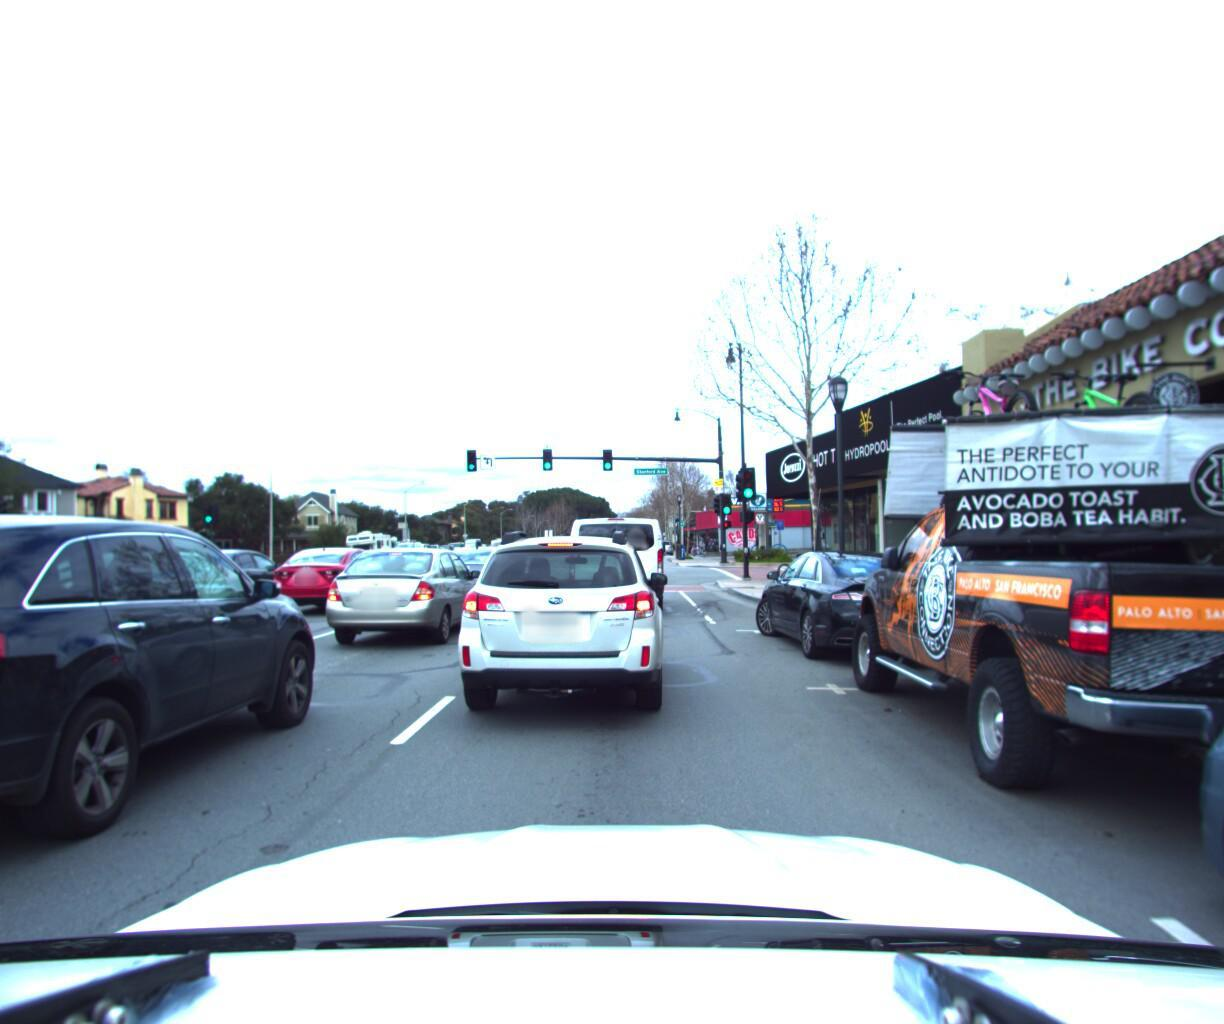car: (829, 210, 1224, 879), (0, 485, 336, 948), (435, 517, 676, 739), (747, 542, 974, 682), (314, 546, 497, 657), (567, 510, 671, 622), (148, 547, 312, 617), (260, 540, 399, 619), (404, 543, 528, 615), (658, 540, 679, 557)
other_vehicle: (344, 531, 400, 567)
